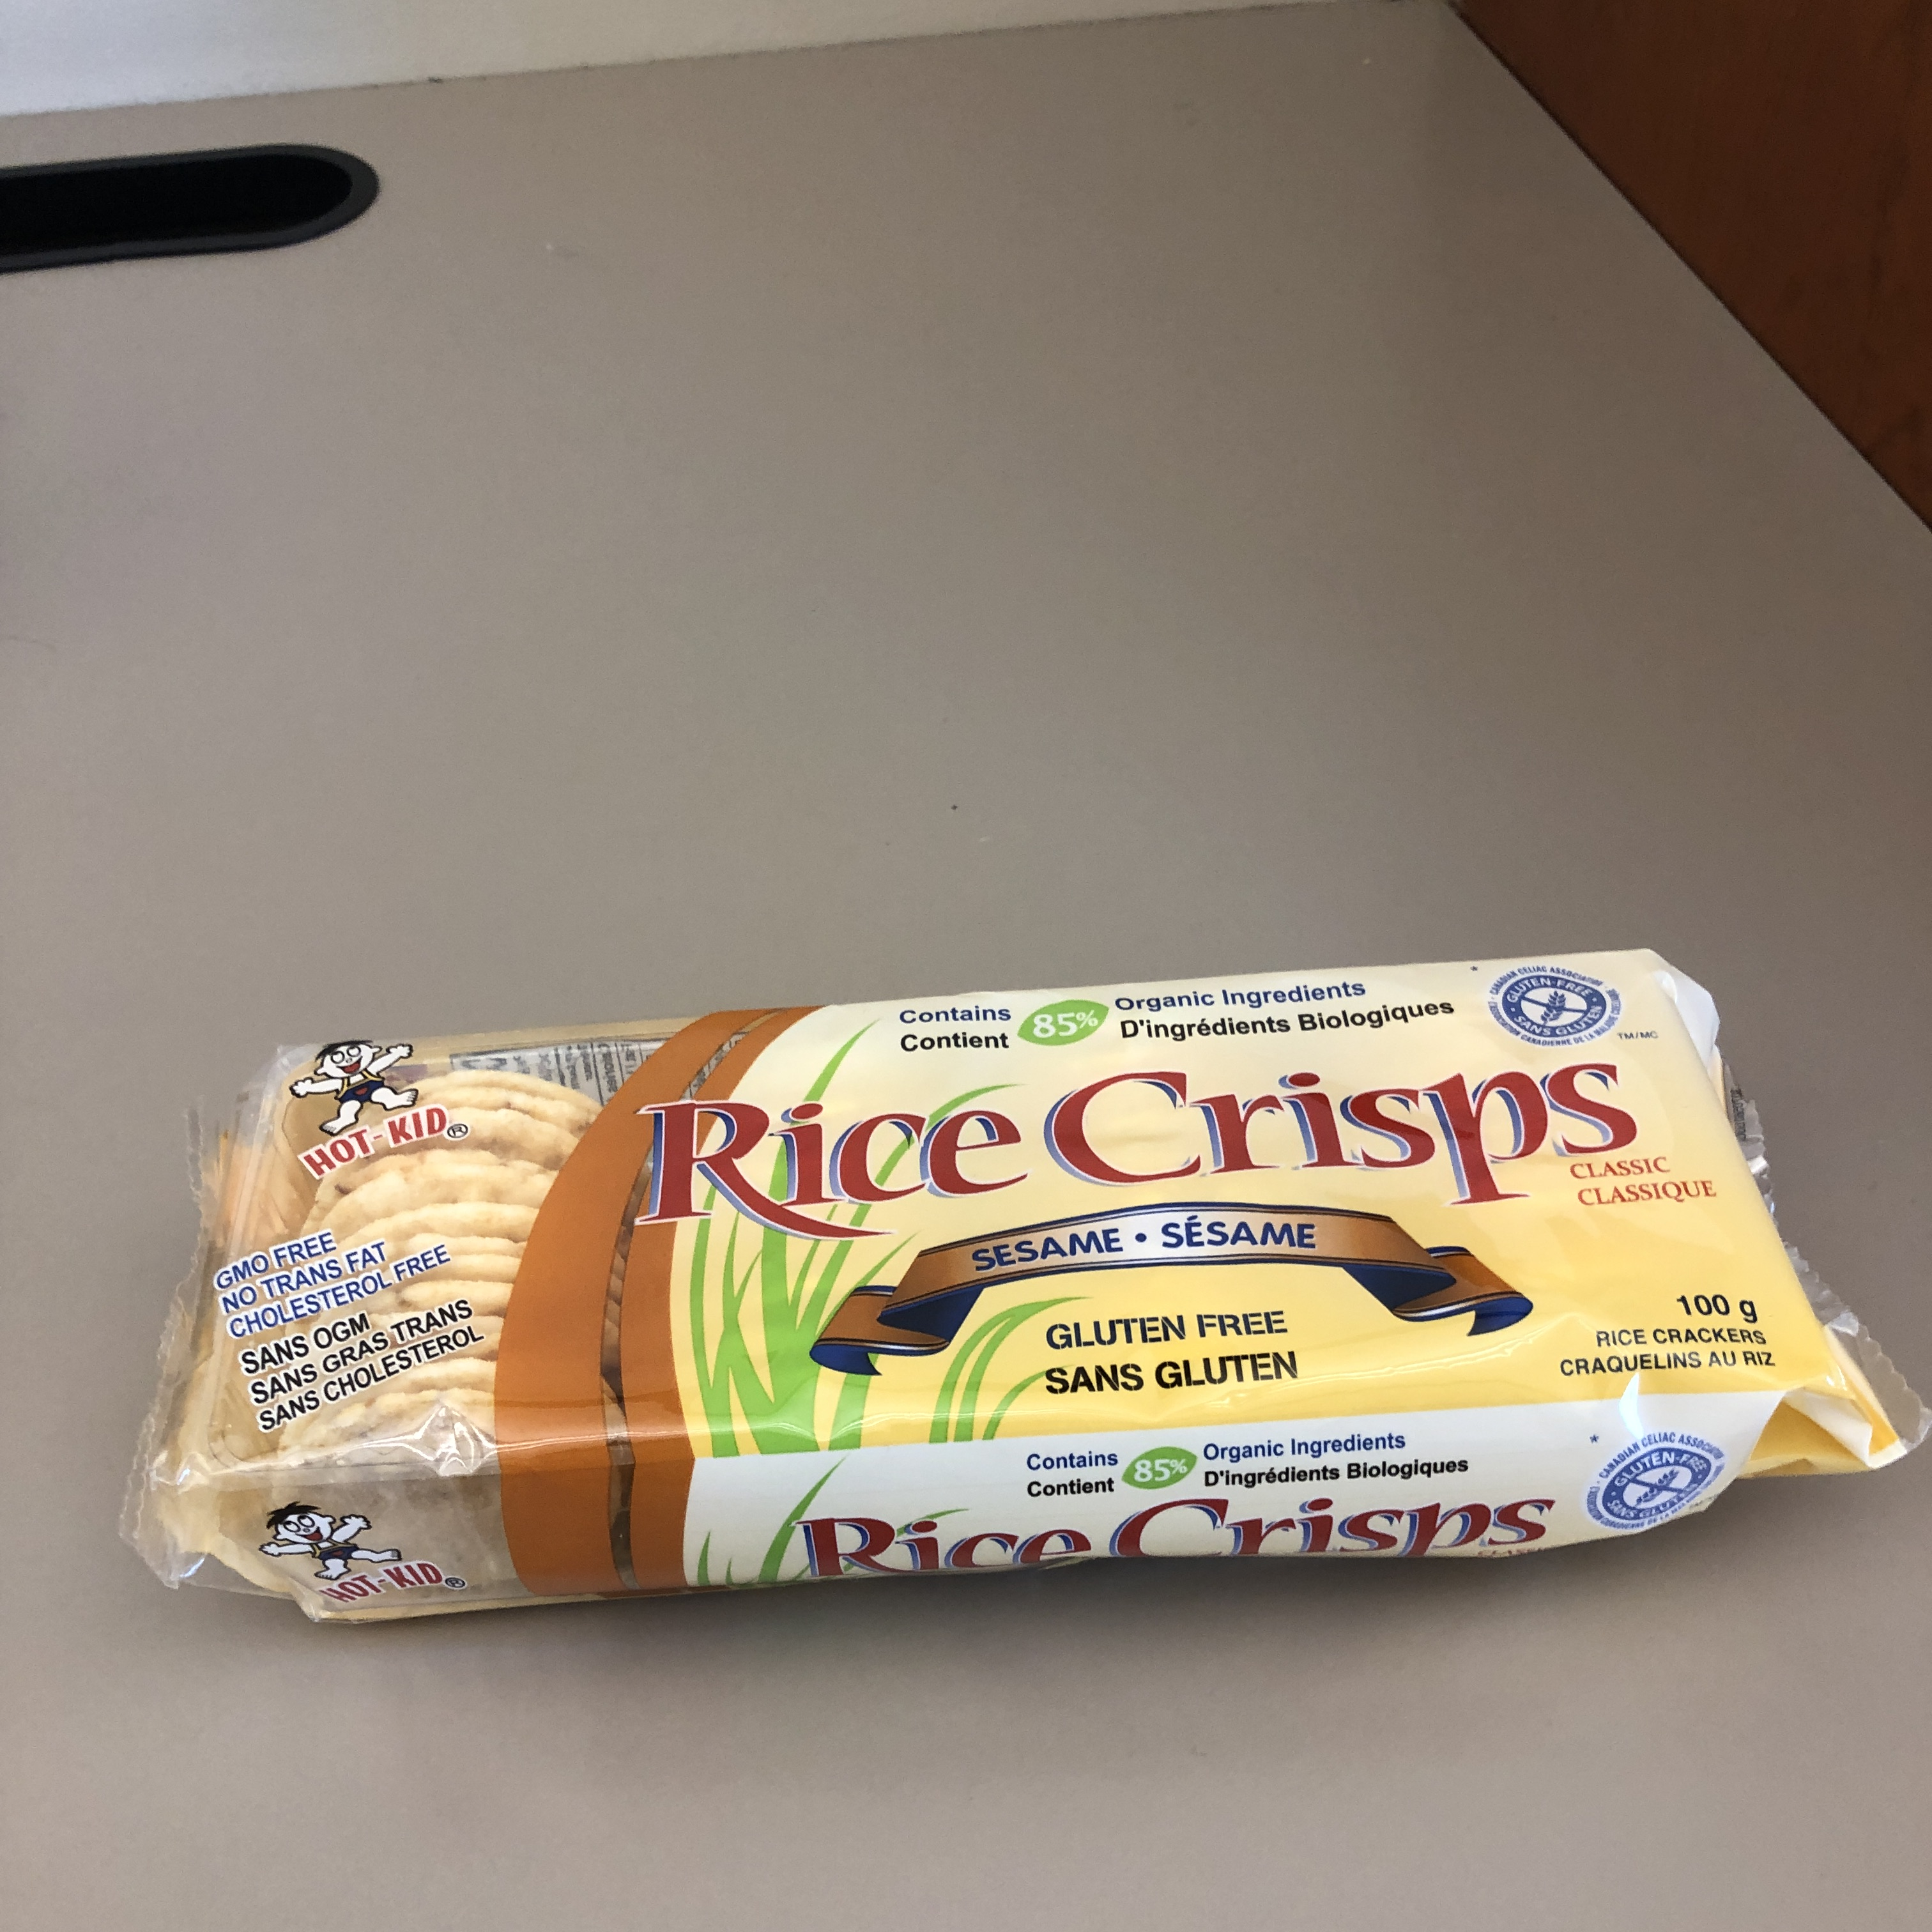hot_kid_rice_crisps_sesame: (937, 152, 1653, 1776)
